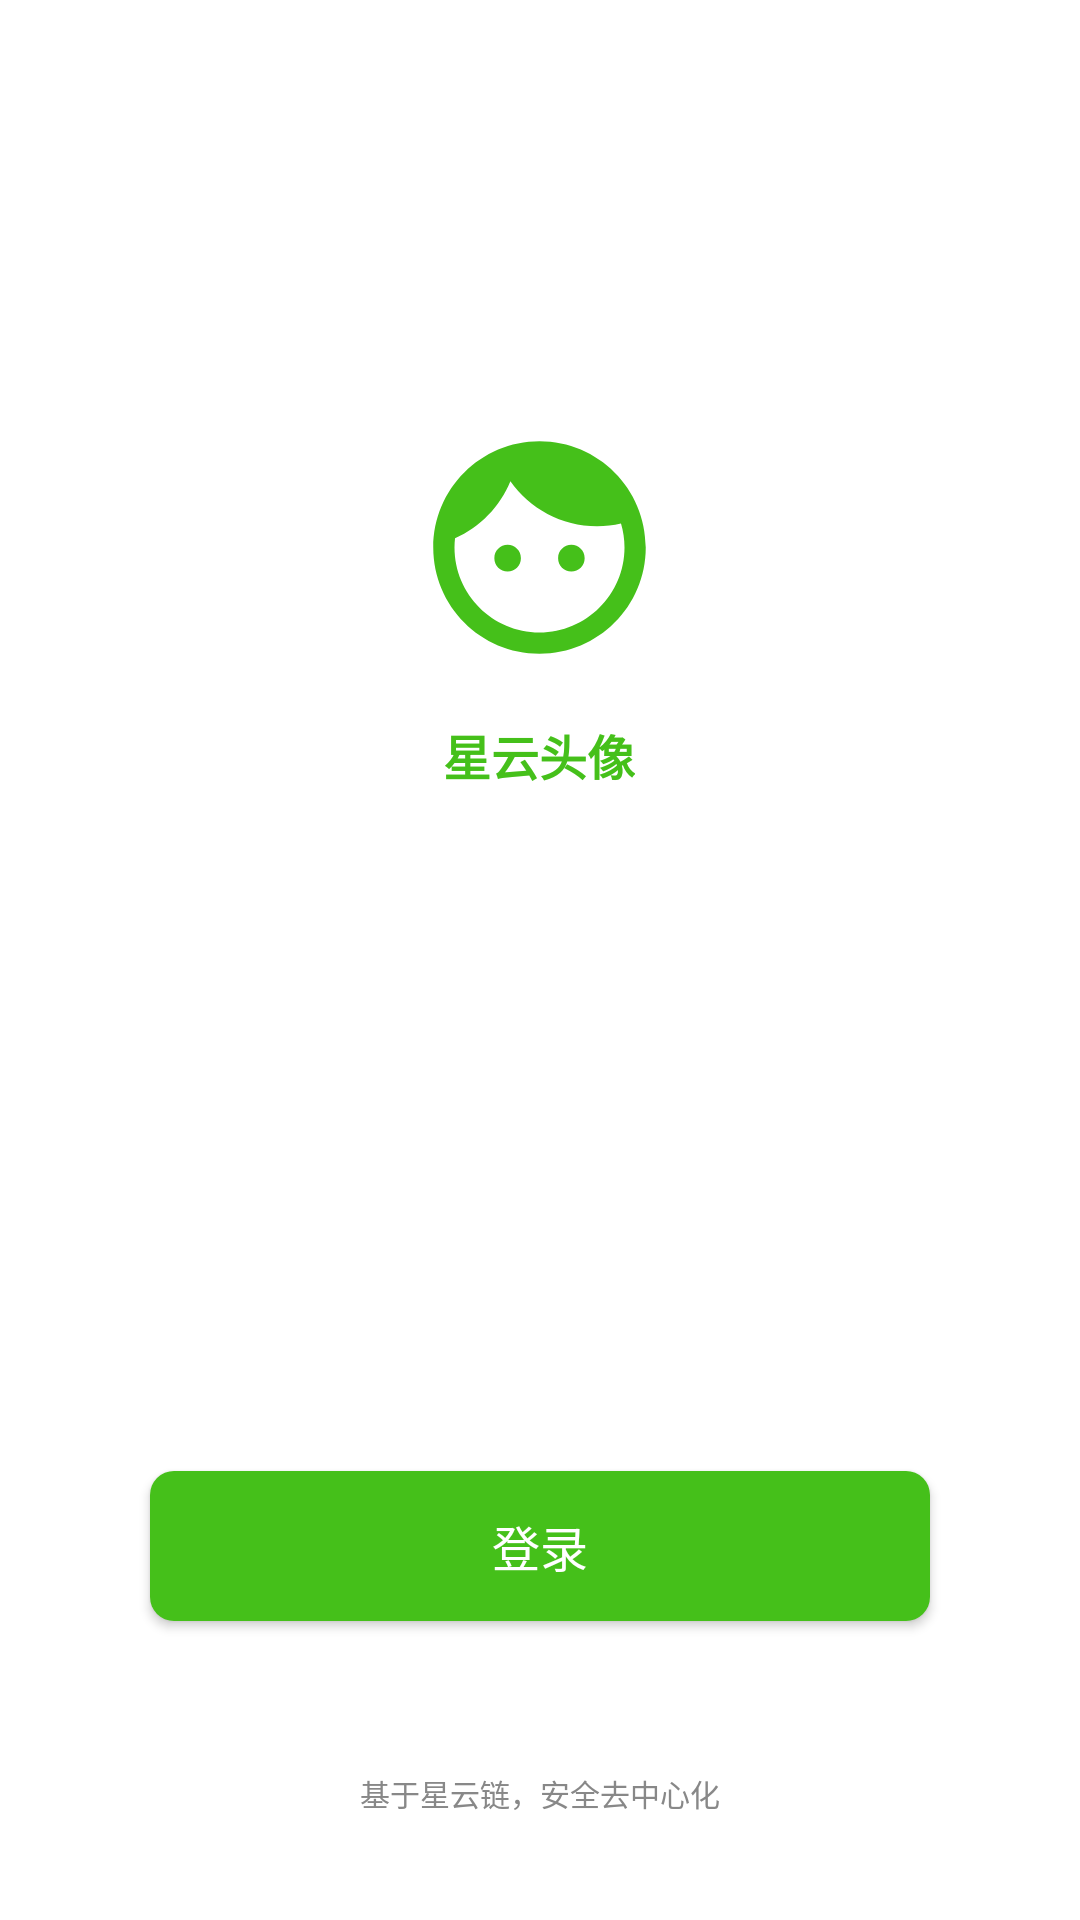

Named icons in this screenshot (1080×1920) and their bounding boxes, (x1, y1, x2, y2):
face: (433, 441, 646, 654)
